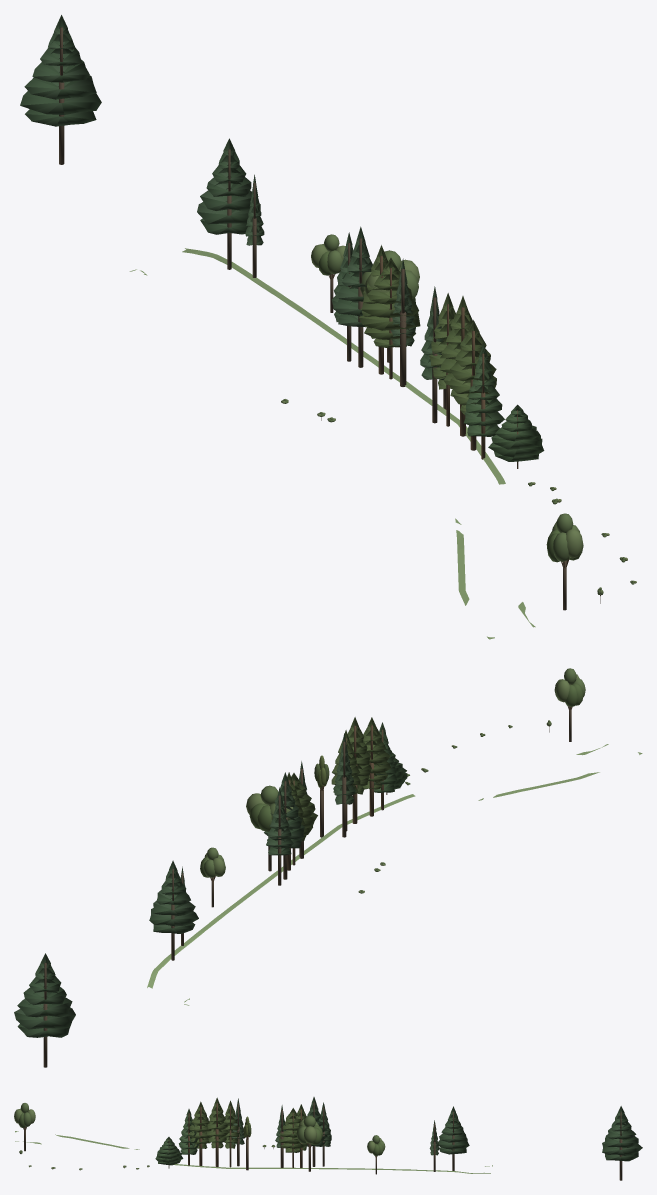
Rendered from site.glb.
3 views of the same model, one above another, from view 1: azimuth 30°, elevation 25°; view 2: azimuth 150°, elevation 25°; view 3: azimuth 270°, elevation 25° (orthographic). The views are drawn at different scales.
Parts seen in each view (by area): view 1: pioneer-west-trees, pioneer-west-verge; view 2: pioneer-west-trees, pioneer-west-verge; view 3: pioneer-west-trees, pioneer-west-verge.
Part boxes in pixels (x1,y1,x2,y2): pioneer-west-trees: (20, 15, 583, 610); pioneer-west-verge: (129, 248, 535, 639); pioneer-west-trees: (14, 668, 585, 1067); pioneer-west-verge: (147, 744, 642, 1005); pioneer-west-trees: (14, 1097, 642, 1180); pioneer-west-verge: (15, 1131, 492, 1173).
Bounding box in the file's own units: 45.06 × 31.65 × 219.
